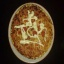pizza: (13, 6, 49, 58)
